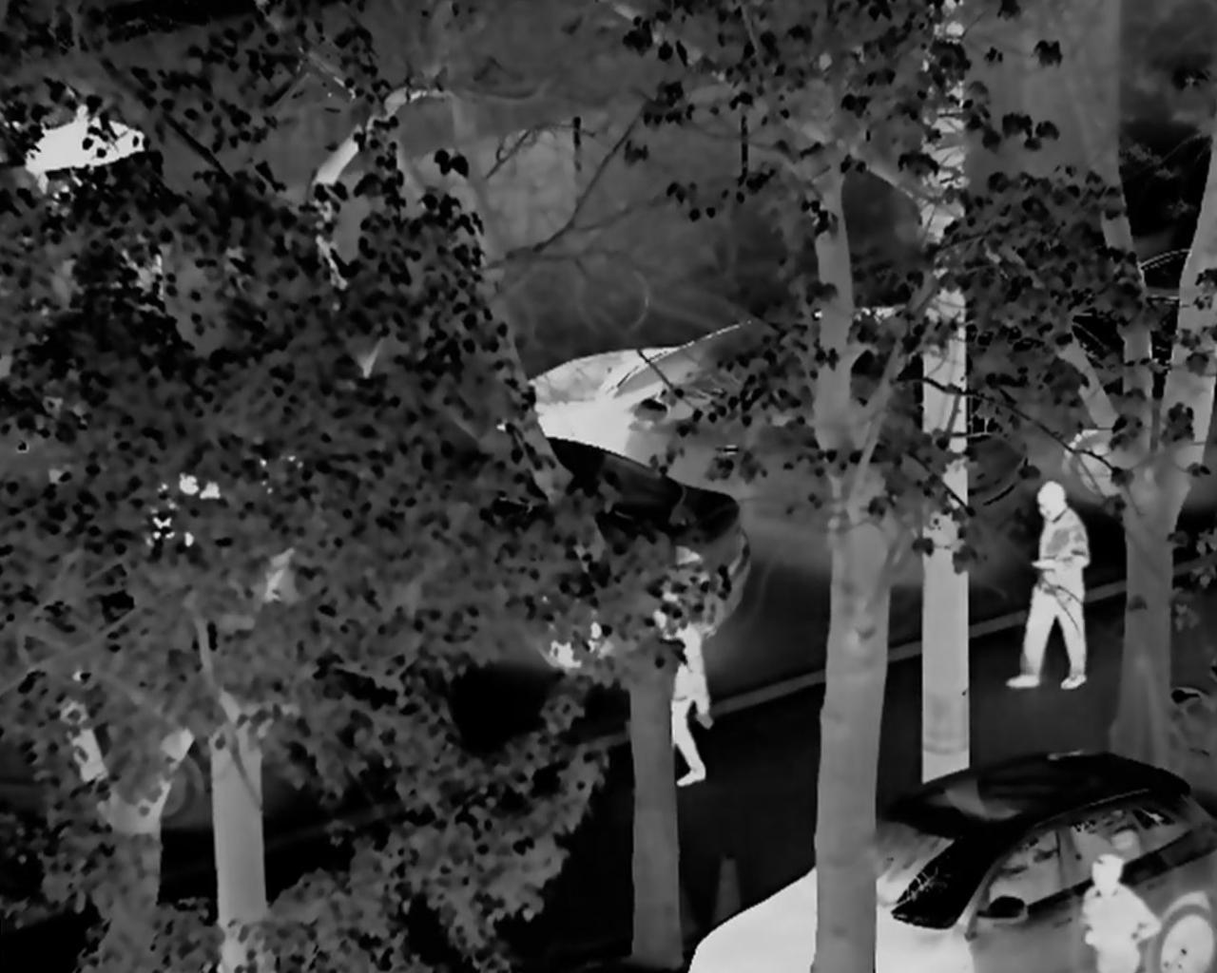person: (1005, 481, 1097, 686), (634, 601, 721, 790)
